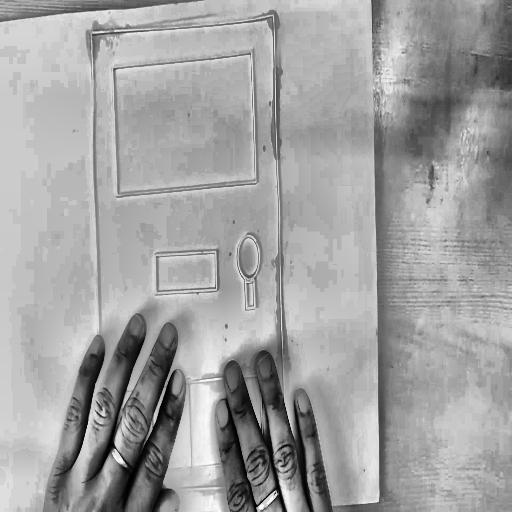bottom_right: (376, 494, 383, 506)
door: (86, 6, 291, 506)
